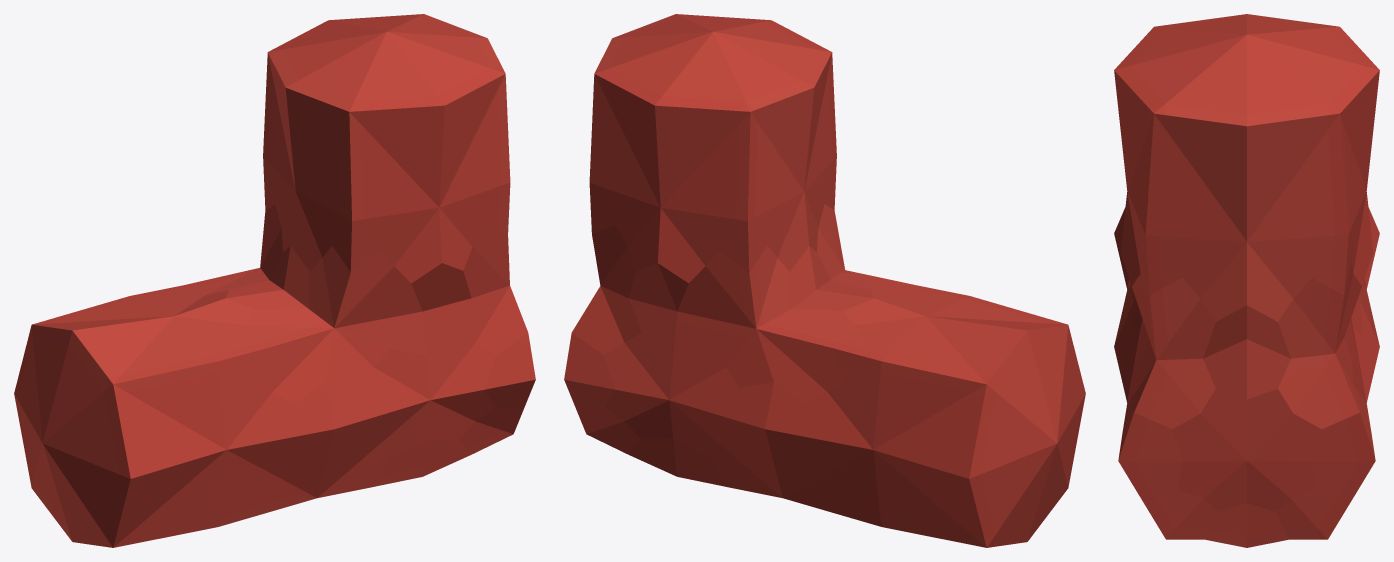
The model's file is Platform_Corner_End.fbx.
3 renders of one model, left to right at view 1: azimuth 30°, elevation 25°; view 2: azimuth 150°, elevation 25°; view 3: azimuth 270°, elevation 25°, orthographic. The views are drawn at different scales.
Parts seen in each view (by area): view 1: Platform_Corner; view 2: Platform_Corner; view 3: Platform_Corner.
Boxes of the visible parts, left/top/right/bottom form: Platform_Corner: left=14, top=14, right=535, bottom=547; Platform_Corner: left=564, top=14, right=1085, bottom=547; Platform_Corner: left=1114, top=14, right=1379, bottom=547.
Size of the model in its own units: 440 by 410 by 200.
